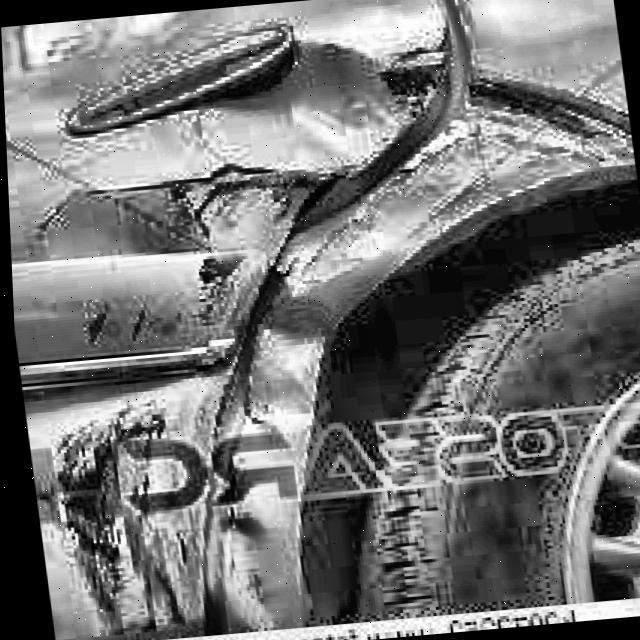door_dent: (2, 43, 509, 638)
door_scratch: (394, 38, 621, 185), (47, 404, 198, 596)
